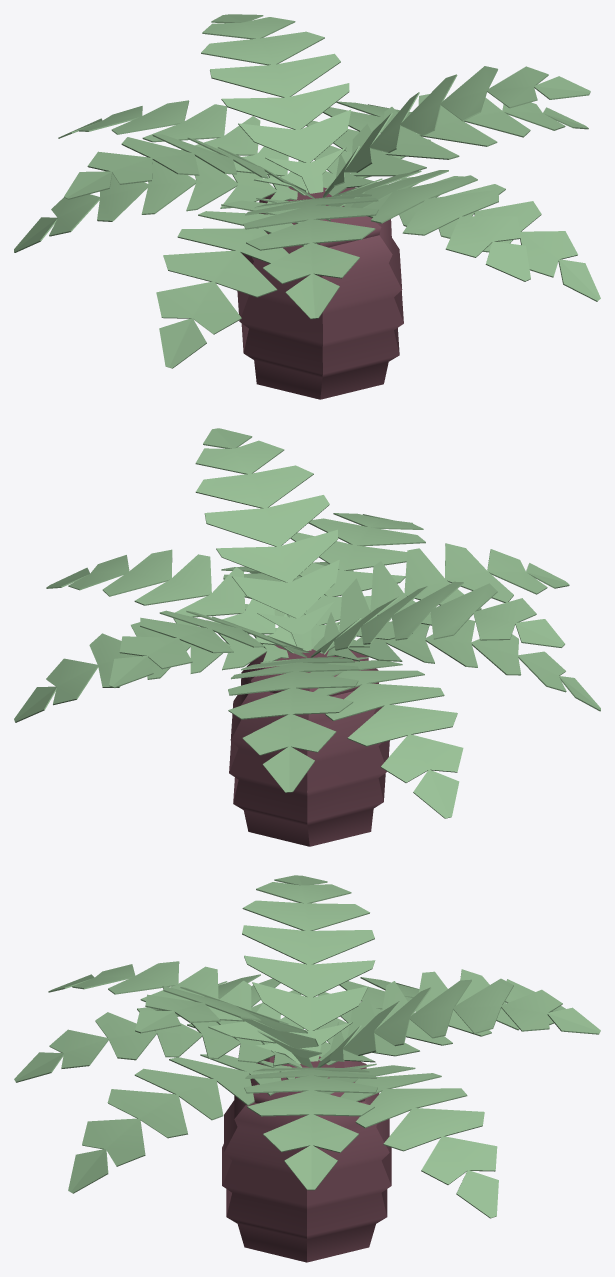
File: palmTreeSmall2.fbx
3 views of the same model, one above another, from view 1: azimuth 30°, elevation 25°; view 2: azimuth 150°, elevation 25°; view 3: azimuth 270°, elevation 25° (orthographic). The views are drawn at different scales.
Parts seen in each view (by area): view 1: pCylinder111, pPlane371, pPlane379, pPlane374, pPlane375, pPlane380, pPlane376, pPlane370, pPlane372, pPlane373, pPlane378, pPlane377; view 2: pPlane376, pCylinder111, pPlane380, pPlane372, pPlane375, pPlane370, pPlane373, pPlane374, pPlane379, pPlane377, pPlane371, pPlane378; view 3: pCylinder111, pPlane373, pPlane377, pPlane378, pPlane370, pPlane371, pPlane374, pPlane375, pPlane372, pPlane376, pPlane380, pPlane379.
Boxes of the visible parts, box(x1,y1,x2,y2) form: pCylinder111: box(237, 187, 403, 399); pPlane371: box(201, 14, 351, 193); pPlane379: box(156, 198, 330, 368); pPlane374: box(328, 170, 530, 281); pPlane375: box(243, 193, 378, 319); pPlane380: box(14, 156, 297, 252); pPlane376: box(323, 66, 590, 197); pPlane370: box(325, 94, 588, 196); pPlane372: box(58, 100, 308, 195); pPlane373: box(64, 134, 314, 199); pPlane378: box(343, 176, 600, 301); pPlane377: box(302, 101, 430, 187); pPlane376: box(195, 428, 339, 650); pCylinder111: box(229, 645, 389, 846); pPlane380: box(310, 657, 463, 818); pPlane372: box(228, 656, 359, 792); pPlane375: box(313, 543, 569, 653); pPlane370: box(46, 549, 296, 653); pPlane373: box(310, 581, 564, 657); pPlane374: box(280, 513, 425, 649); pPlane379: box(326, 619, 600, 711); pPlane377: box(14, 618, 288, 722); pPlane371: box(109, 610, 309, 687); pPlane378: box(221, 562, 353, 640); pCylinder111: box(222, 1056, 391, 1262); pPlane373: box(242, 875, 375, 1061); pPlane377: box(319, 1063, 498, 1218); pPlane378: box(68, 1054, 294, 1193); pPlane370: box(244, 1067, 377, 1190); pPlane371: box(317, 978, 600, 1067); pPlane374: box(14, 1007, 301, 1082); pPlane375: box(48, 961, 300, 1064); pPlane372: box(318, 969, 565, 1065); pPlane376: box(135, 985, 321, 1067); pPlane380: box(318, 977, 419, 1056); pPlane379: box(146, 974, 318, 1048).
Bounding box in the file's own units: 12.49 × 6.71 × 12.26.
